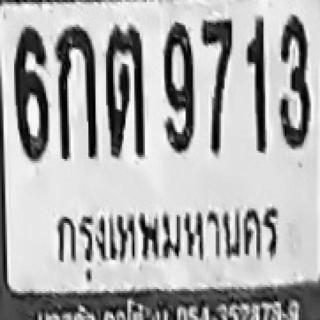A01: (55, 26, 96, 160)
N03: (277, 12, 308, 149)
N06: (12, 25, 48, 159)
N07: (201, 18, 232, 131), (201, 18, 232, 108)
N09: (162, 22, 194, 154)
P04: (48, 201, 292, 279)
